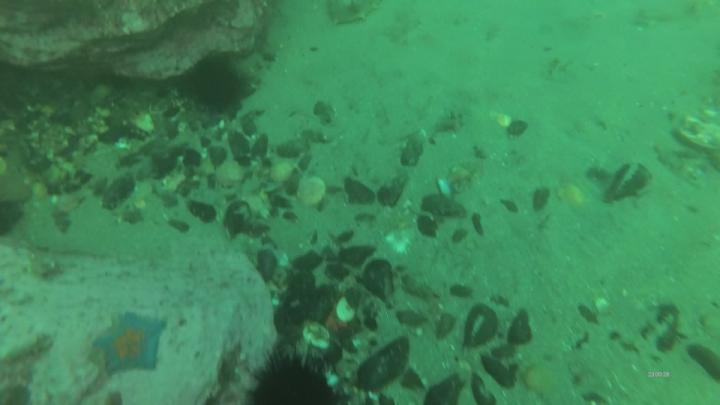echinus: (250, 362, 340, 405), (187, 61, 244, 111)
scallop: (298, 175, 327, 207)
starfish: (95, 316, 165, 373)
